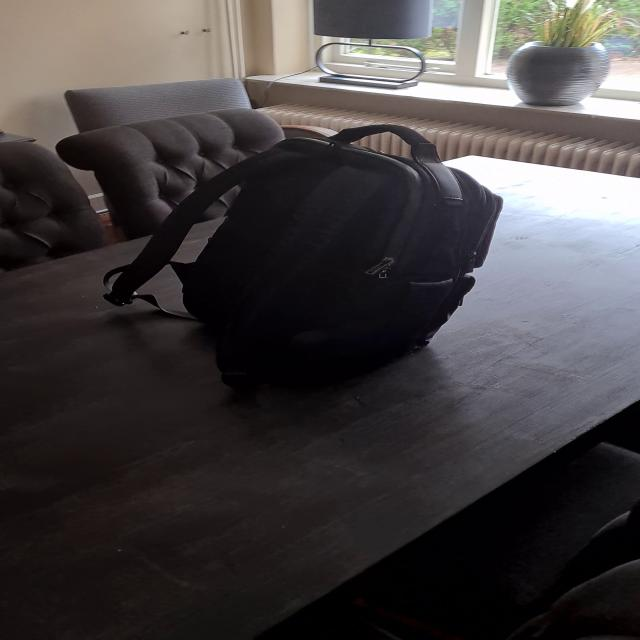backpack: (93, 105, 513, 397)
